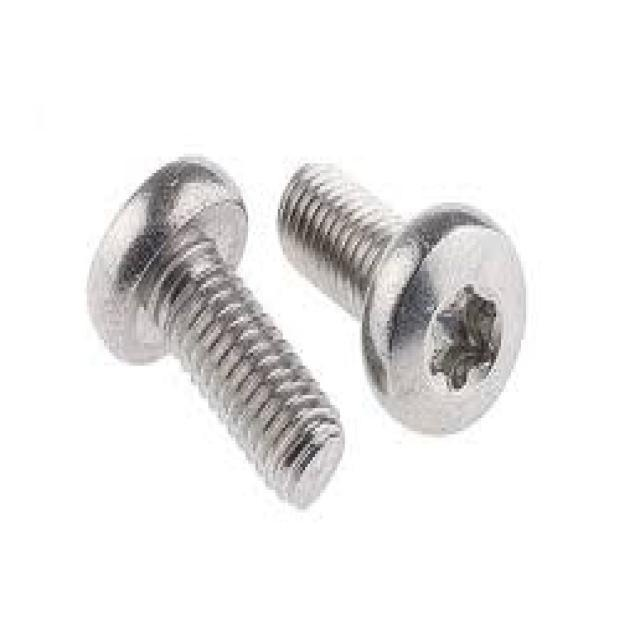torx: (361, 200, 529, 438)
